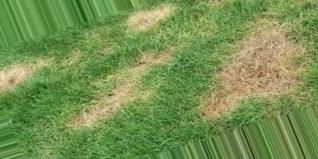patch: (258, 40, 289, 79), (3, 60, 39, 88), (107, 70, 129, 99), (224, 72, 247, 97), (79, 93, 102, 112), (256, 22, 280, 38), (52, 56, 86, 66), (75, 115, 98, 126), (137, 56, 154, 70), (205, 99, 222, 113), (151, 7, 169, 20), (238, 50, 249, 66), (137, 14, 148, 26), (241, 36, 250, 48), (106, 104, 116, 111), (221, 61, 233, 66)
